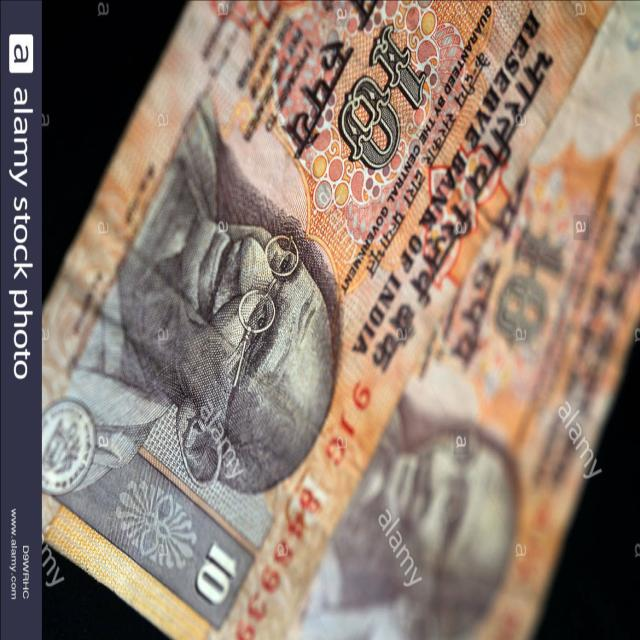10IndianRupees: (42, 2, 596, 640)
